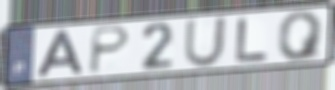2: (139, 22, 175, 71)
A: (35, 28, 86, 80)
L: (234, 16, 271, 65)
P: (86, 24, 133, 76)
Q: (277, 9, 327, 62)
U: (182, 15, 229, 69)
